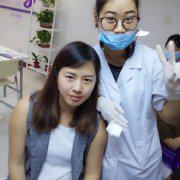NONE: (61, 68, 94, 105)
WRONG: (97, 9, 139, 51)
